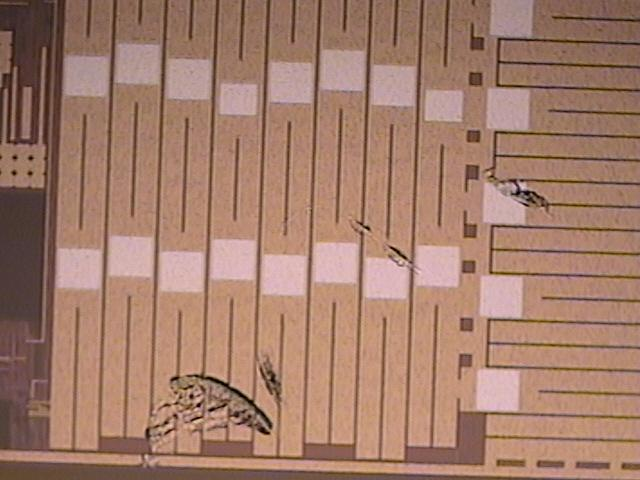SCRATCH: (137, 164, 553, 478)
